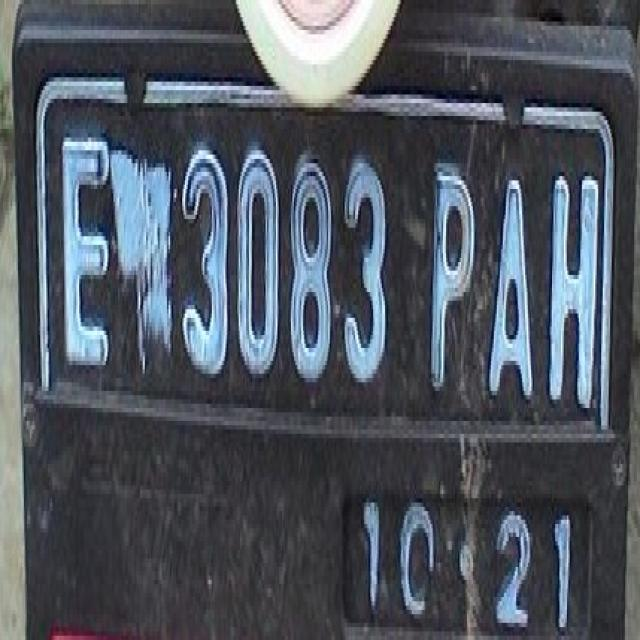plate: (34, 69, 612, 636)
